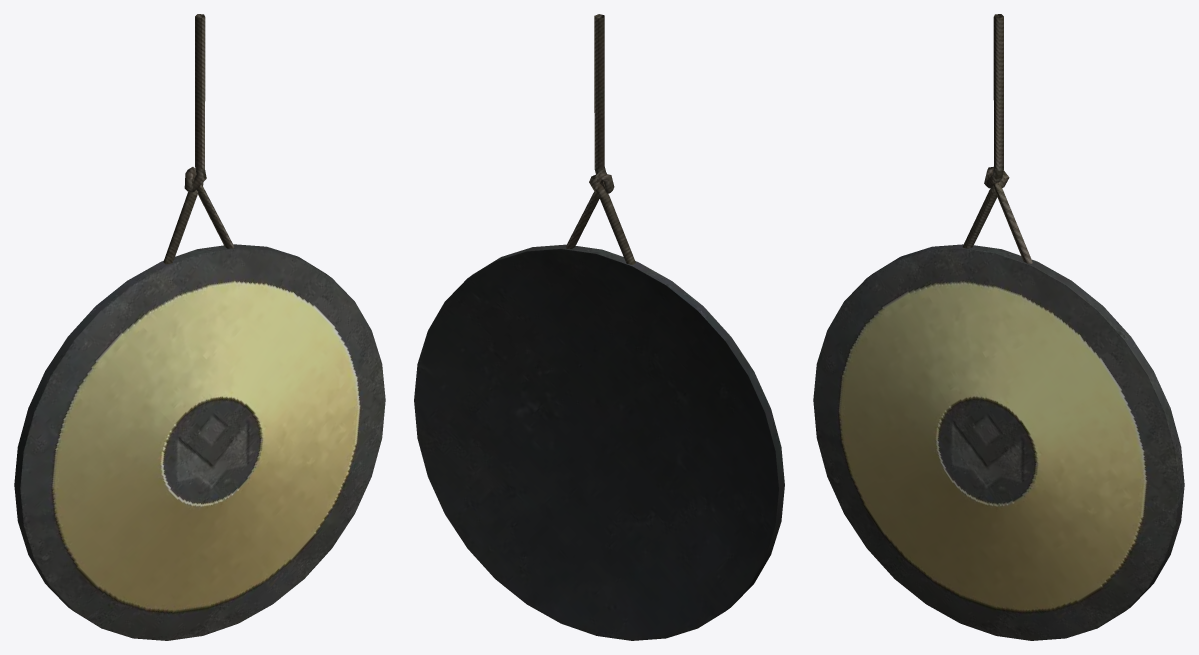
Rendered from pm-gong-01.glb.
3 views of the same model, side by side, from view 1: azimuth 30°, elevation 25°; view 2: azimuth 150°, elevation 25°; view 3: azimuth 330°, elevation 25° (orthographic).
Parts seen in each view (by area): view 1: Gong01_Art; view 2: Gong01_Art; view 3: Gong01_Art.
Part boxes in pixels (x1,y1,x2,y2): Gong01_Art: (14, 14, 385, 640); Gong01_Art: (414, 14, 784, 640); Gong01_Art: (813, 14, 1184, 640).
Size of the model in its own units: 2 by 3.23 by 0.1661.
1 material, 1 textured.
